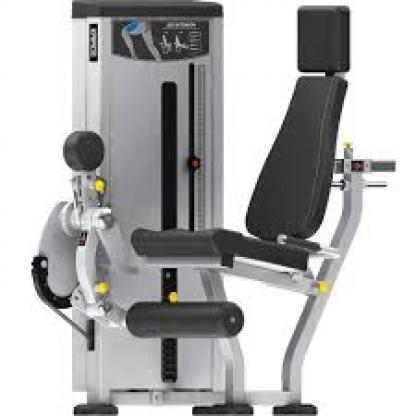leg extension: (22, 0, 401, 416)
